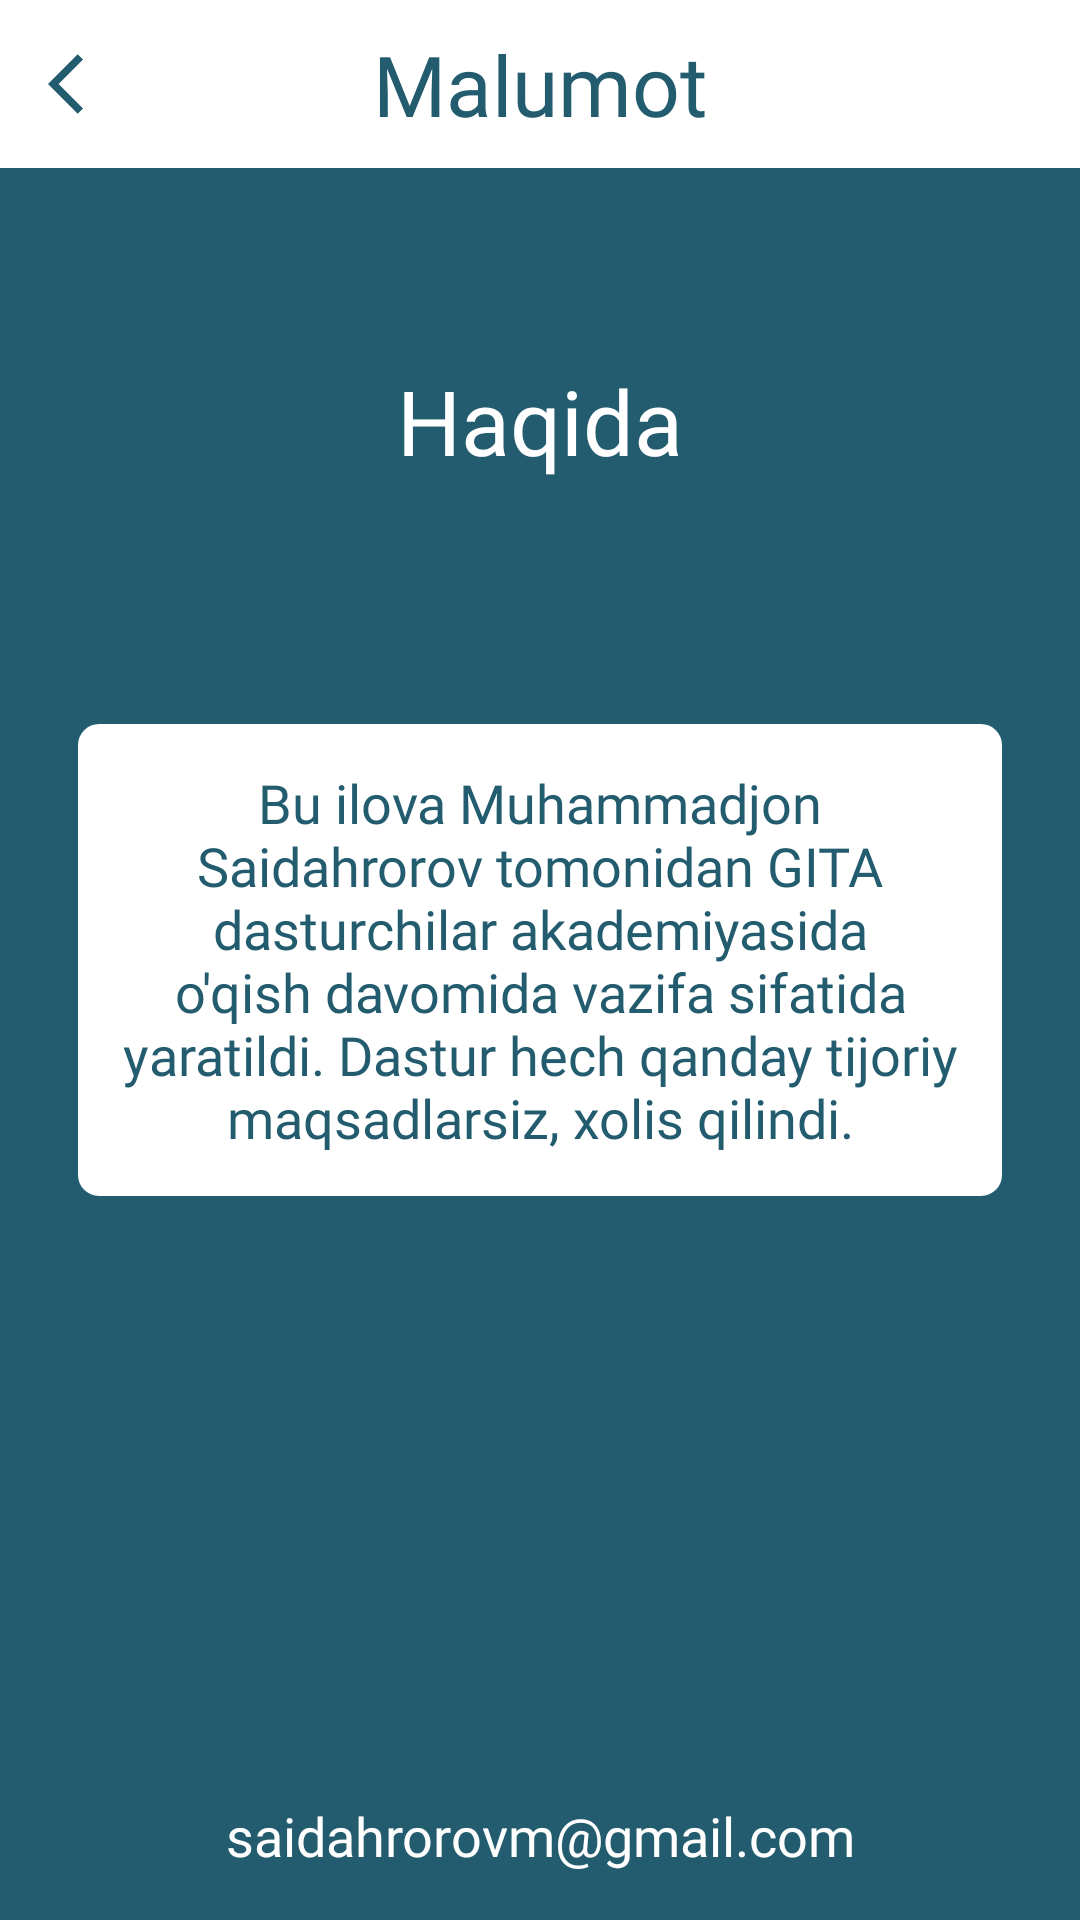

Screen size 1080×1920. Icon name, then its center in pixels as [x,y]:
back: [65,84]
